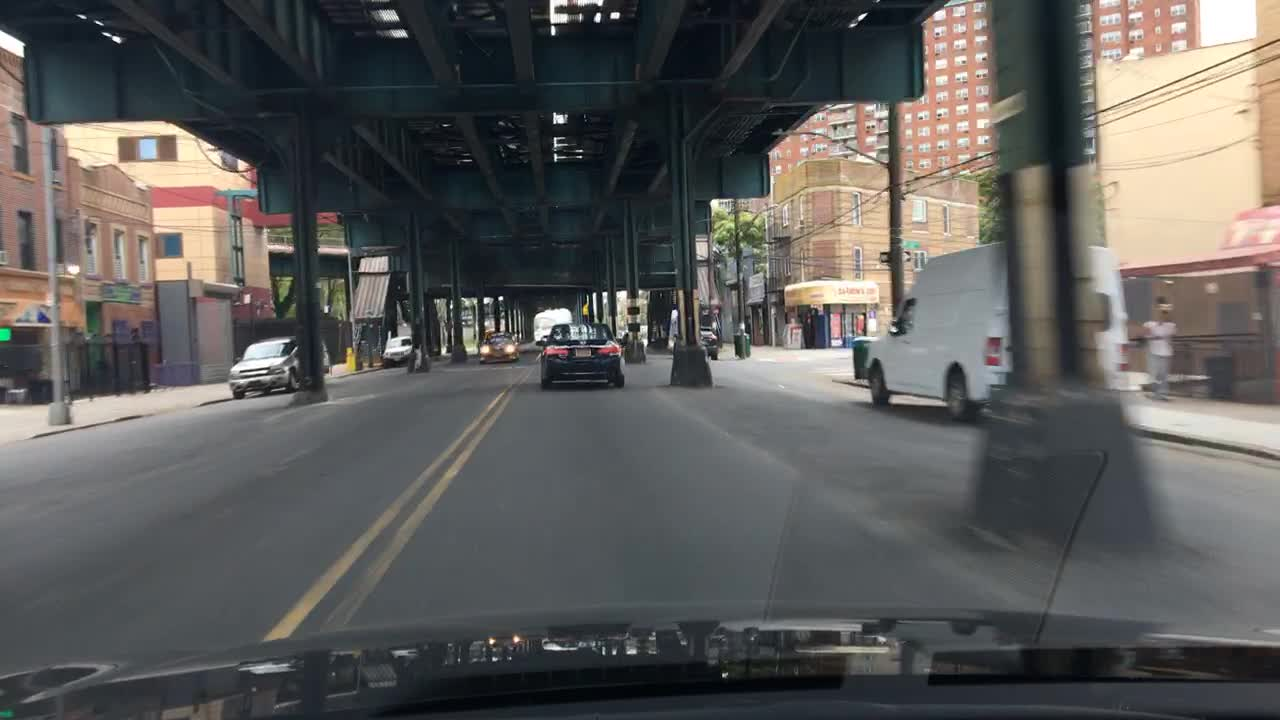car: (862, 238, 1133, 417), (534, 321, 625, 386), (227, 336, 301, 399), (478, 328, 521, 365), (380, 336, 412, 368), (697, 324, 720, 337)
person: (1142, 291, 1179, 397)
